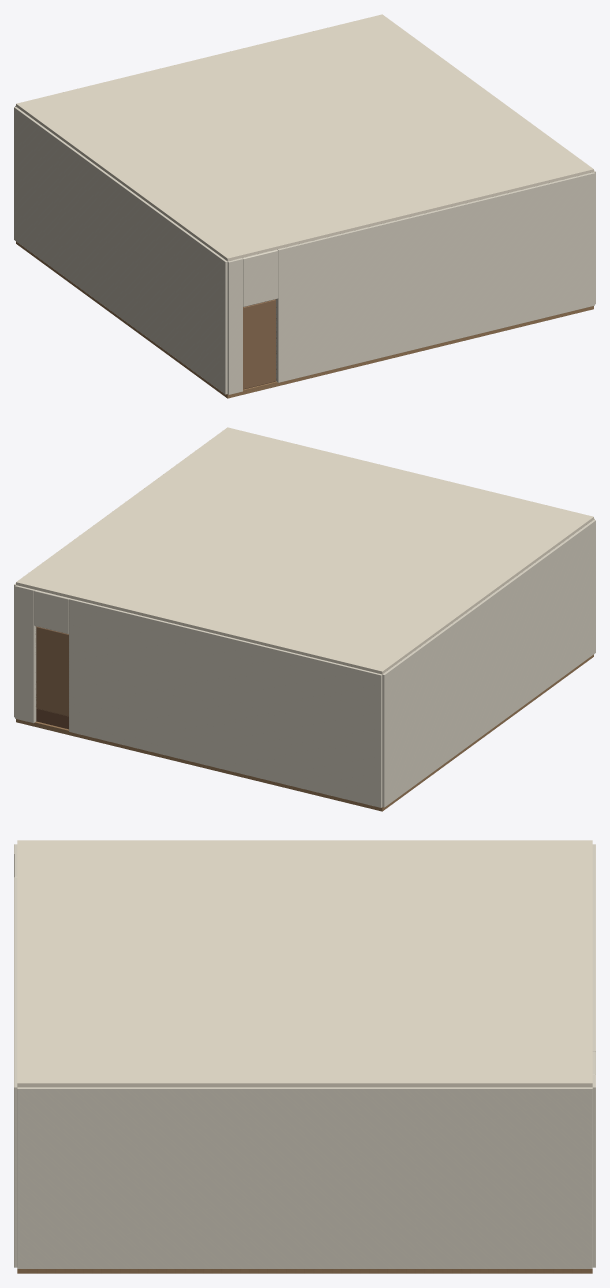
File: scene-empty.glb
3 views of the same model, one above another, from view 1: azimuth 30°, elevation 25°; view 2: azimuth 150°, elevation 25°; view 3: azimuth 270°, elevation 25° (orthographic). The views are drawn at different scales.
Parts seen in each view (by area): view 1: RoomCeiling, FrontWallSegment (×2), RoomLeftWall_Surface, Door, RoomFloor, FrontDoorHeader; view 2: RoomCeiling, BackWallMain, RoomLeftWall_Surface, BackWallRight, Door, RoomFloor, BackDoorHeader; view 3: RoomCeiling, RoomRightWall_Surface, RoomFloor, FrontWallSegment, BackWallMain, BackWallRight.
Part boxes in pixels (box(x1,y1,x2,y2)): RoomCeiling: box(16, 14, 593, 261); FrontWallSegment (×2): box(227, 172, 594, 394); RoomLeftWall_Surface: box(14, 107, 227, 394); Door: box(243, 299, 275, 389); RoomFloor: box(16, 241, 593, 398); FrontDoorHeader: box(242, 249, 278, 306); RoomCeiling: box(16, 427, 593, 674); BackWallMain: box(69, 598, 382, 807); RoomLeftWall_Surface: box(382, 520, 595, 807); BackWallRight: box(15, 585, 36, 723); Door: box(36, 626, 68, 716); RoomFloor: box(16, 654, 593, 811); BackDoorHeader: box(34, 590, 69, 634); RoomCeiling: box(17, 840, 592, 1087); RoomRightWall_Surface: box(17, 1087, 592, 1268); RoomFloor: box(17, 1269, 592, 1273); FrontWallSegment: box(14, 877, 17, 1267); BackWallMain: box(592, 844, 595, 1051); BackWallRight: box(592, 1074, 595, 1267).
Size of the model in its own units: 10.52 by 3.8 by 10.52.
25 materials, 9 textured.
